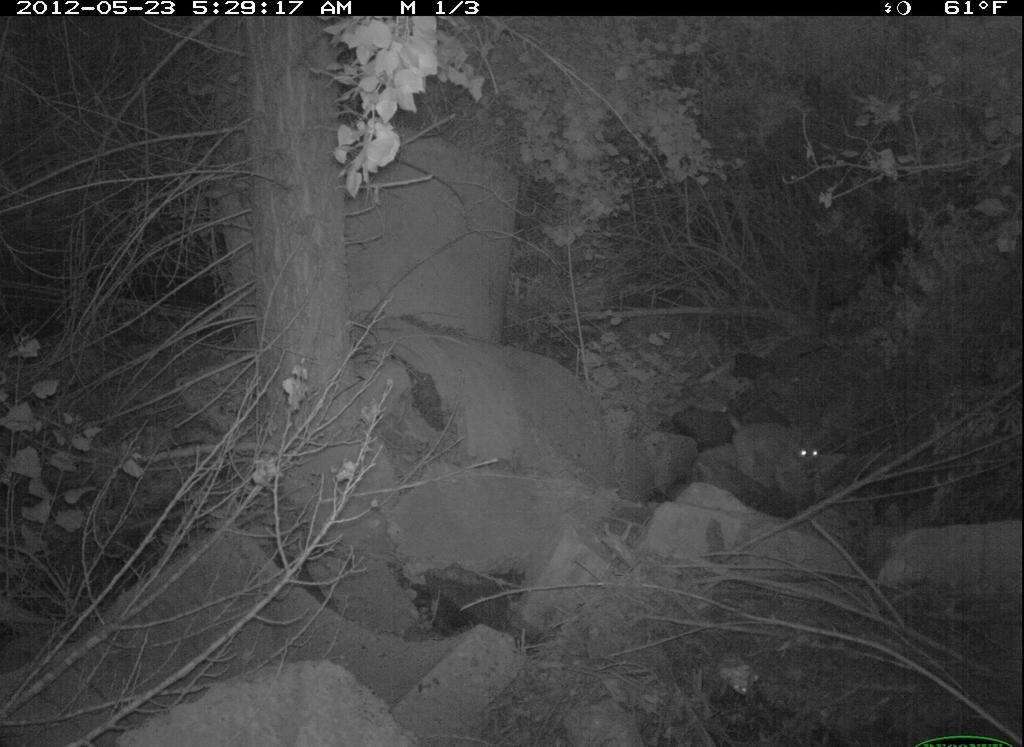bobcat: (712, 397, 847, 521)
